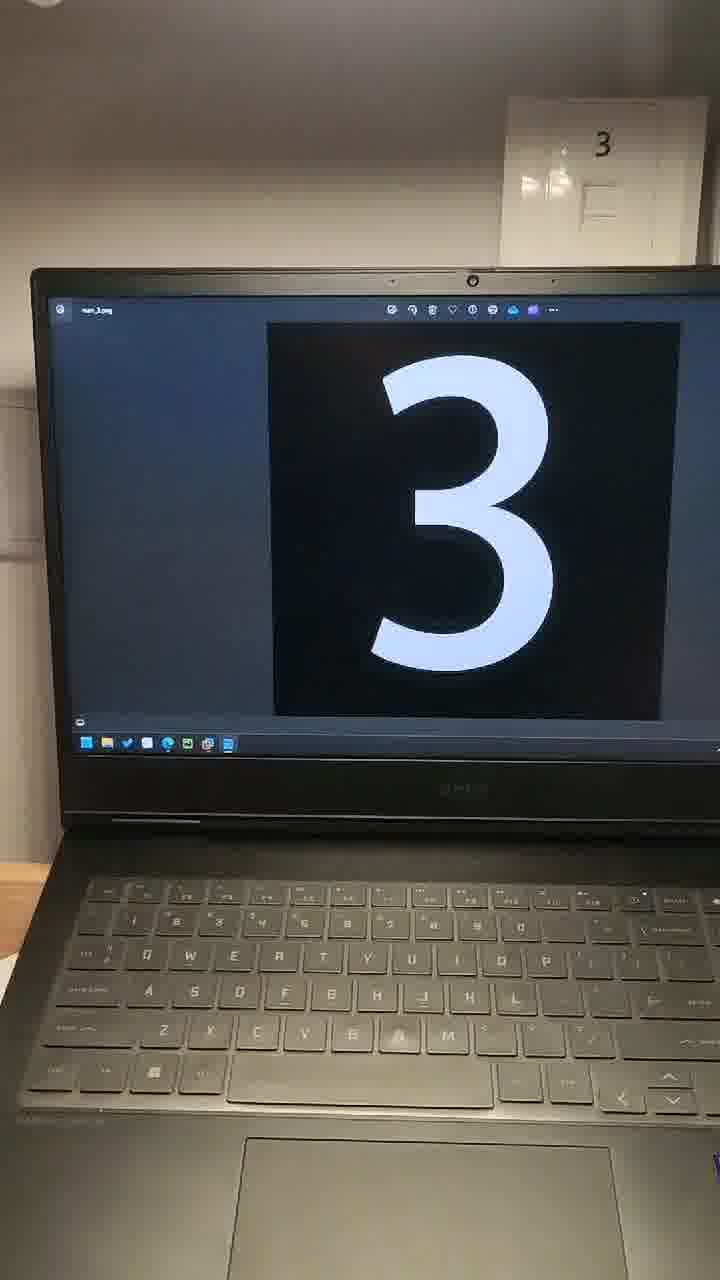three: (328, 305, 625, 718)
